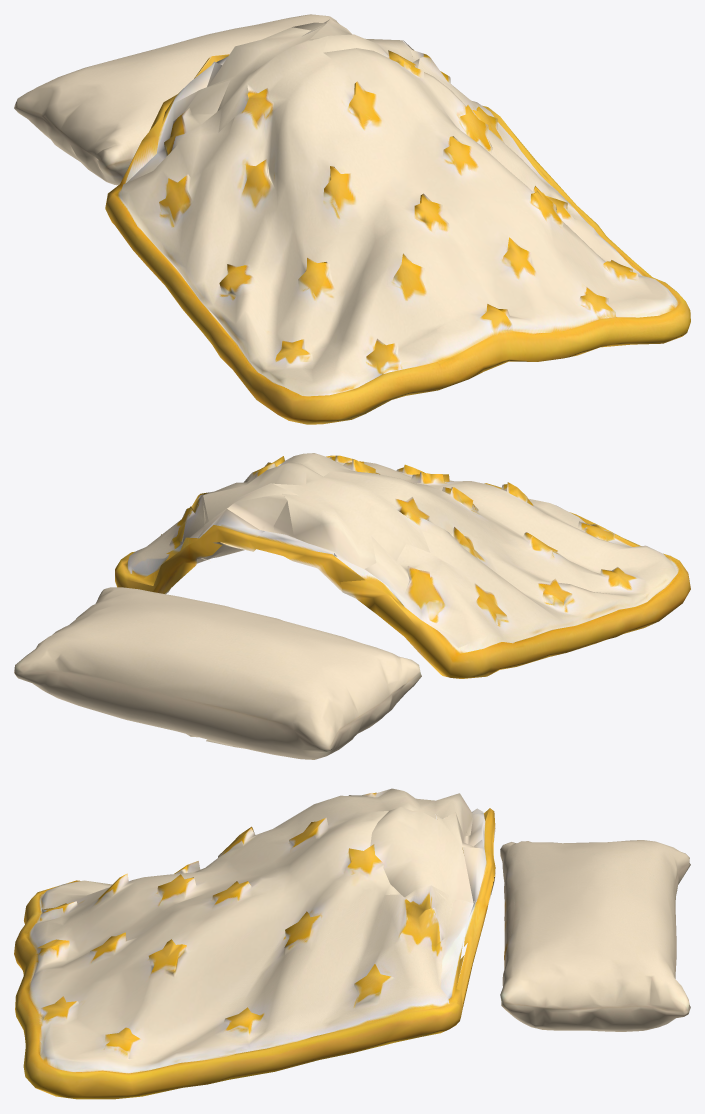
The model's file is bedding_pillow.glb.
The picture shows the model from 3 angles, top to bottom: view 1: azimuth 30°, elevation 25°; view 2: azimuth 150°, elevation 25°; view 3: azimuth 270°, elevation 25°; orthographic projection. The views are drawn at different scales.
Parts seen in each view (by area): view 1: bedding, pillow; view 2: bedding, pillow; view 3: bedding, pillow.
Part boxes in pixels (bbox=[...]): bedding: bbox=[105, 19, 690, 424]; pillow: bbox=[14, 14, 352, 185]; bedding: bbox=[115, 453, 690, 678]; pillow: bbox=[14, 587, 421, 759]; bedding: bbox=[14, 788, 495, 1099]; pillow: bbox=[500, 840, 690, 1031].
Bounding box in the file's own units: 0.4303 × 0.2091 × 0.6283.
Materials: 1 (1 with a texture image).
